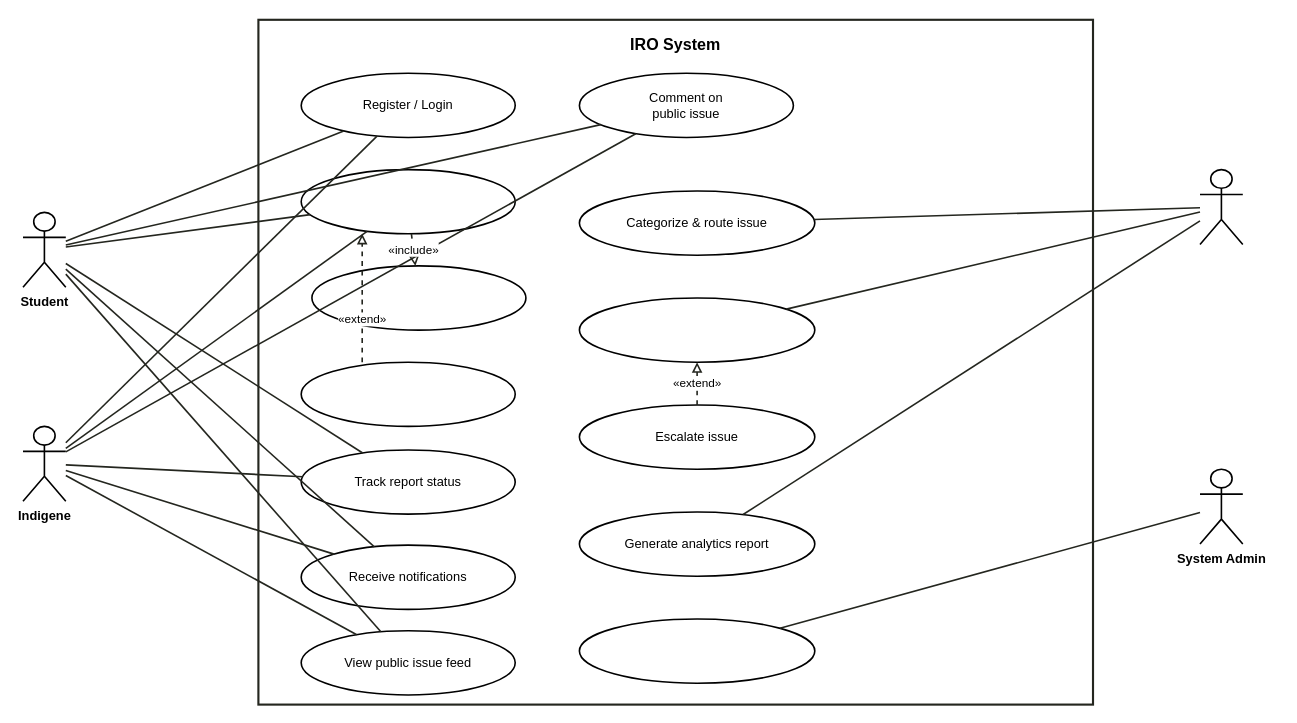
Image size: 1297x723. Some labels were removed from this diagram. The shapes that lost their labels are listed below. From the top down, each one's box as (x1, y1, x2, y2) in pixels, then its label:
(300, 168, 516, 234): Submit issue report
(1199, 168, 1243, 245): Complaints Officer
(311, 265, 526, 330): Attach evidence (photo/video)
(578, 297, 815, 363): Update issue status
(300, 361, 516, 427): Report anonymously
(578, 618, 815, 684): Manage user accounts
